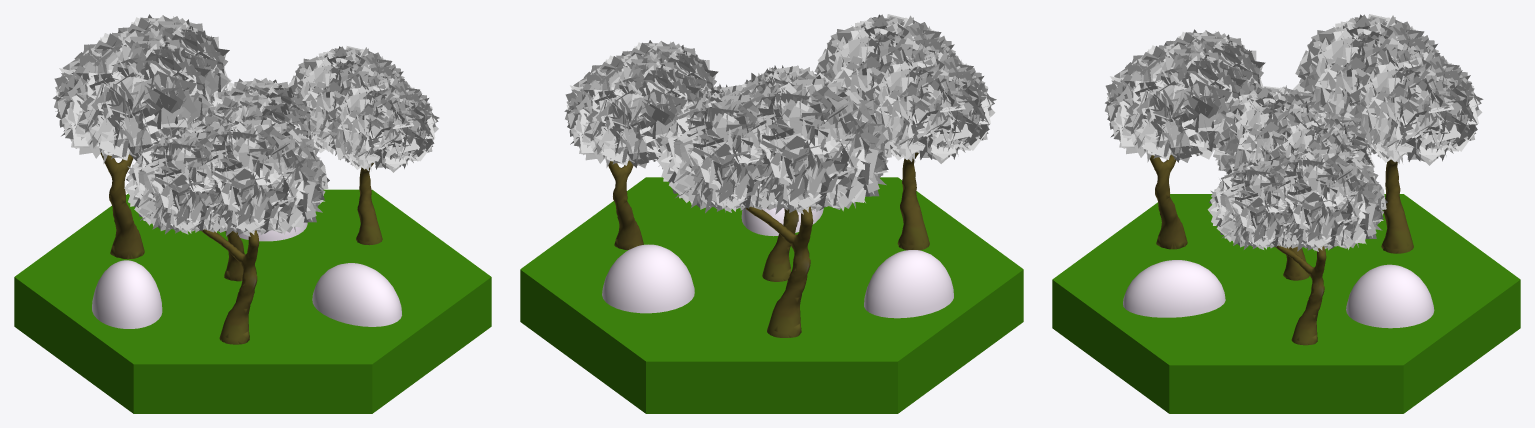
The model's file is Tuile_Foret_N2.fbx.
The picture shows the model from 3 angles, left to right: view 1: azimuth 30°, elevation 25°; view 2: azimuth 150°, elevation 25°; view 3: azimuth 270°, elevation 25°; orthographic projection. The views are drawn at different scales.
Parts seen in each view (by area): view 1: Circle, tree_LP.002, tree_LP, tree_LP.001, tree_LP.003, Sphere.001, Sphere, Sphere.002; view 2: Circle, tree_LP, tree_LP.002, tree_LP.001, Sphere.002, Sphere, tree_LP.003, Sphere.001; view 3: Circle, tree_LP, tree_LP.001, tree_LP.002, tree_LP.003, Sphere.001, Sphere.002.
Part boxes in pixels (bbox=[...]): Circle: bbox=[14, 189, 491, 413]; tree_LP.002: bbox=[124, 117, 329, 344]; tree_LP: bbox=[53, 14, 231, 259]; tree_LP.001: bbox=[288, 46, 439, 245]; tree_LP.003: bbox=[187, 78, 316, 281]; Sphere.001: bbox=[312, 263, 401, 326]; Sphere: bbox=[92, 260, 162, 328]; Sphere.002: bbox=[239, 222, 307, 241]; Circle: bbox=[520, 177, 1023, 413]; tree_LP: bbox=[657, 75, 892, 337]; tree_LP.002: bbox=[814, 14, 996, 250]; tree_LP.001: bbox=[564, 40, 718, 249]; Sphere.002: bbox=[602, 244, 694, 313]; Sphere: bbox=[864, 250, 953, 318]; tree_LP.003: bbox=[677, 65, 844, 281]; Sphere.001: bbox=[741, 207, 823, 236]; Circle: bbox=[1052, 194, 1520, 413]; tree_LP: bbox=[1292, 14, 1483, 253]; tree_LP.001: bbox=[1207, 147, 1387, 345]; tree_LP.002: bbox=[1105, 29, 1265, 249]; tree_LP.003: bbox=[1213, 85, 1375, 280]; Sphere.001: bbox=[1123, 260, 1225, 317]; Sphere.002: bbox=[1346, 264, 1434, 328].
Size of the model in its own units: 107 by 78.69 by 124.
